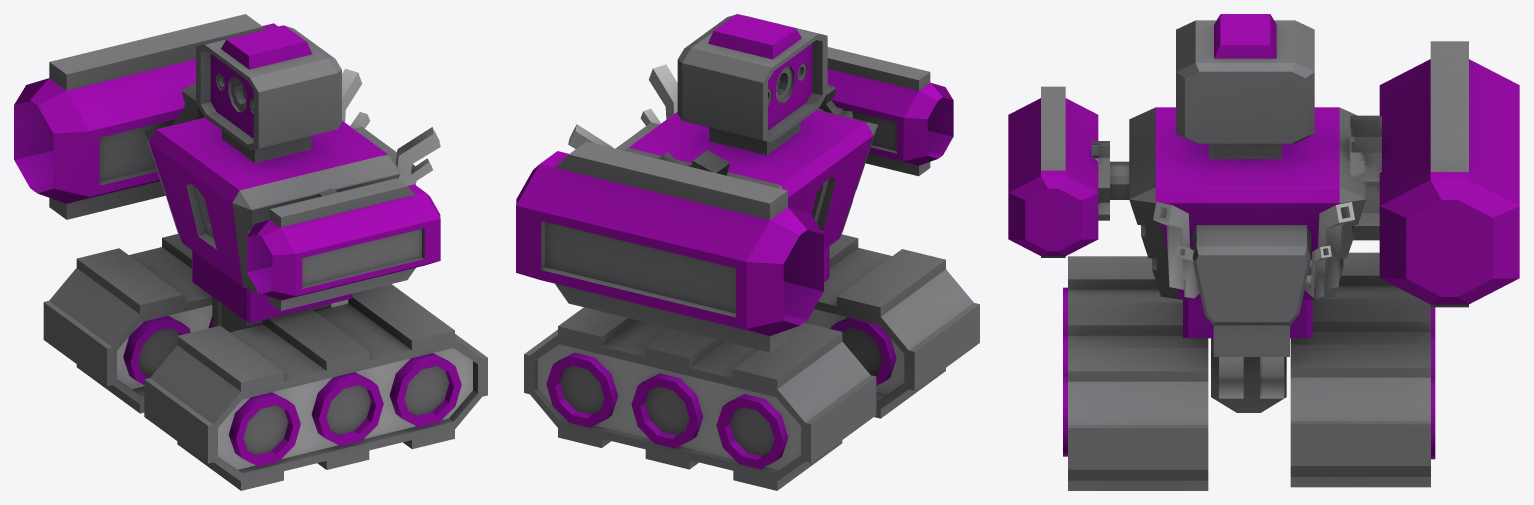
Rendered from Enemy2_Idle12.obj.
3 renders of one model, left to right at view 1: azimuth 30°, elevation 25°; view 2: azimuth 150°, elevation 25°; view 3: azimuth 270°, elevation 25°, orthographic. The views are drawn at different scales.
Visible parts, largest first — view 1: Object006, Object007, Object010, Object009; view 2: Object006, Object007, Object010, Object009; view 3: Object006, Object007, Object010, Object009, Object008.
Boxes of the visible parts, x1,y1,x2,y2 form: Object006: [14, 14, 487, 490]; Object007: [144, 25, 399, 332]; Object010: [331, 68, 440, 307]; Object009: [173, 82, 203, 124]; Object006: [516, 47, 979, 490]; Object007: [626, 14, 878, 323]; Object010: [568, 64, 677, 150]; Object009: [658, 150, 729, 175]; Object006: [1008, 41, 1519, 490]; Object007: [1129, 14, 1366, 412]; Object010: [1153, 202, 1354, 398]; Object009: [1350, 115, 1381, 240]; Object008: [1091, 141, 1129, 220].
Bounding box in the file's own units: 87.45 × 109 × 125.
